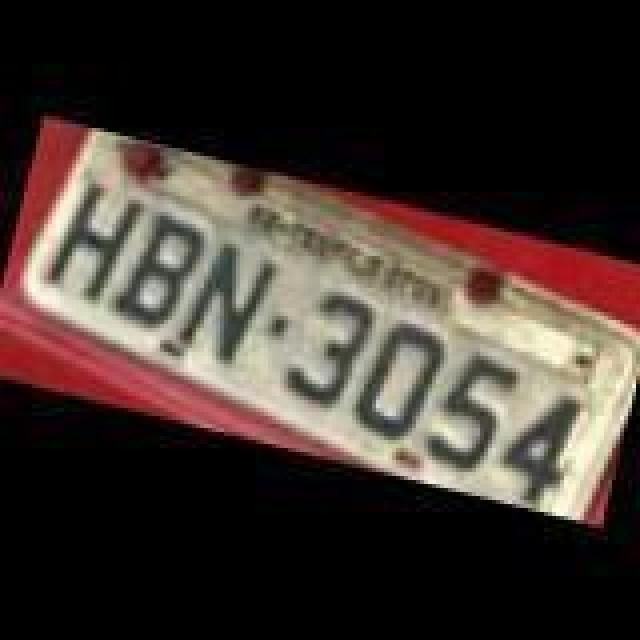3: (280, 280, 384, 416)
4: (490, 384, 582, 512)
5: (414, 340, 522, 476)
B: (104, 202, 208, 334)
H: (32, 172, 144, 308)
N: (168, 234, 280, 374)
O: (350, 310, 450, 442)
